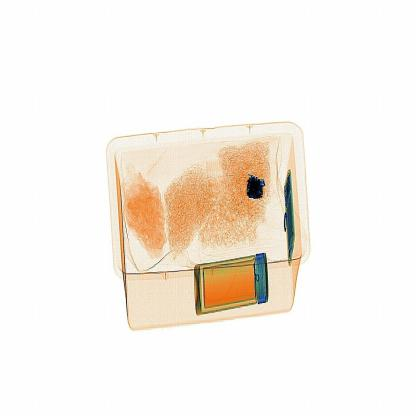scissors: (243, 172, 271, 208)
